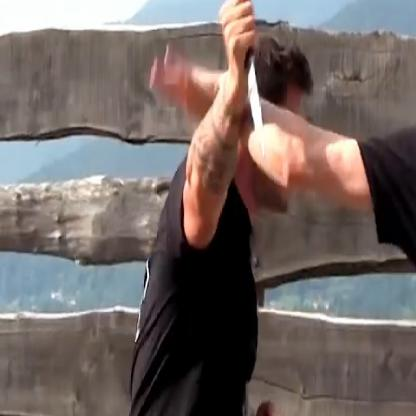knife: (214, 0, 272, 172)
